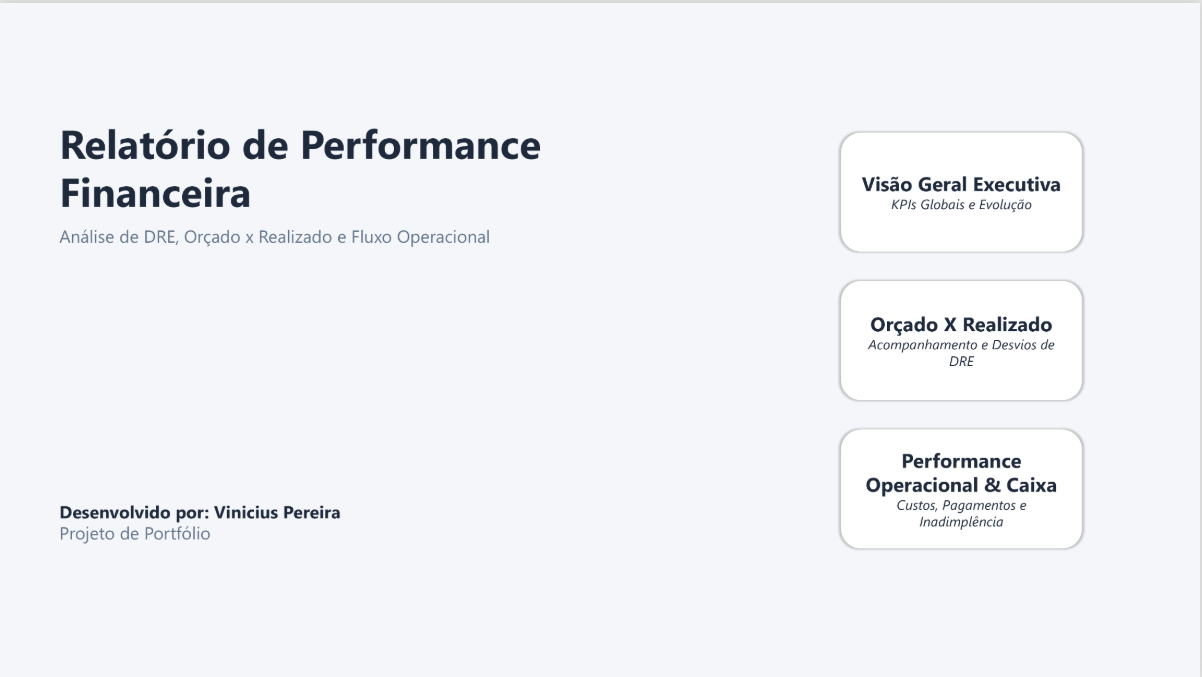

The dashboard page shown, as its layout file describes it:
{"tool":"powerbi","page":{"name":"CAPA","canvas":[1920,1080],"ordinal":0},"visuals":[{"type":"textbox","box":[10,0,280,280],"z":0},{"type":"shape","box":[1335,201.7,406.7,198.3],"z":1000},{"type":"shape","box":[1335,440,406.7,198.3],"z":2000},{"type":"shape","box":[1335,678.3,406.7,198.3],"z":3000}]}

Visuals, with their boxes in screenshot pixels (x1, y1, x2, y2), scaled from the page's 1920x1080 canvas onto the 1202x677 screenshot:
textbox: pyautogui.locateOnScreen(6, 0, 182, 176)
shape: pyautogui.locateOnScreen(836, 126, 1090, 251)
shape: pyautogui.locateOnScreen(836, 276, 1090, 400)
shape: pyautogui.locateOnScreen(836, 425, 1090, 549)
